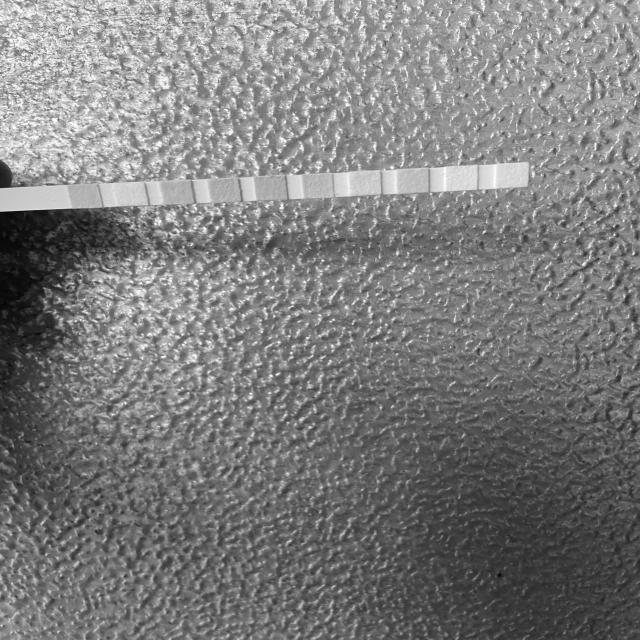Bilirubin: (118, 182, 144, 205)
Blood: (258, 177, 284, 200)
Glucose: (72, 185, 98, 208)
Ketone: (164, 181, 190, 204)
Leukocytes: (497, 165, 528, 188)
Nitrite: (446, 167, 477, 190)
Protein: (350, 172, 380, 195)
SpGravity: (212, 180, 238, 202)
Urobilinogen: (397, 170, 428, 192)
background: (0, 0, 640, 640)
pH: (304, 175, 330, 198)
strip: (0, 163, 529, 213)
